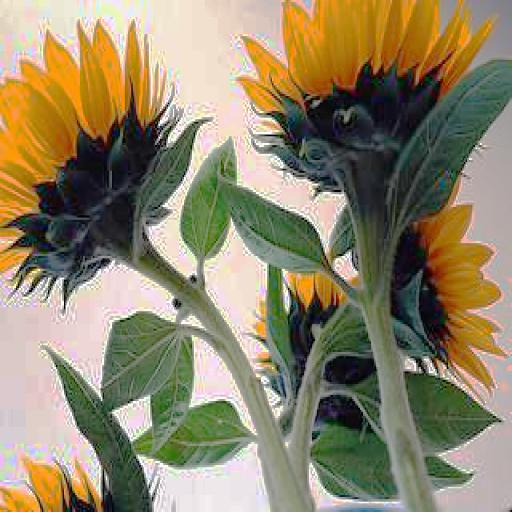sunflower: (417, 179, 512, 403)
